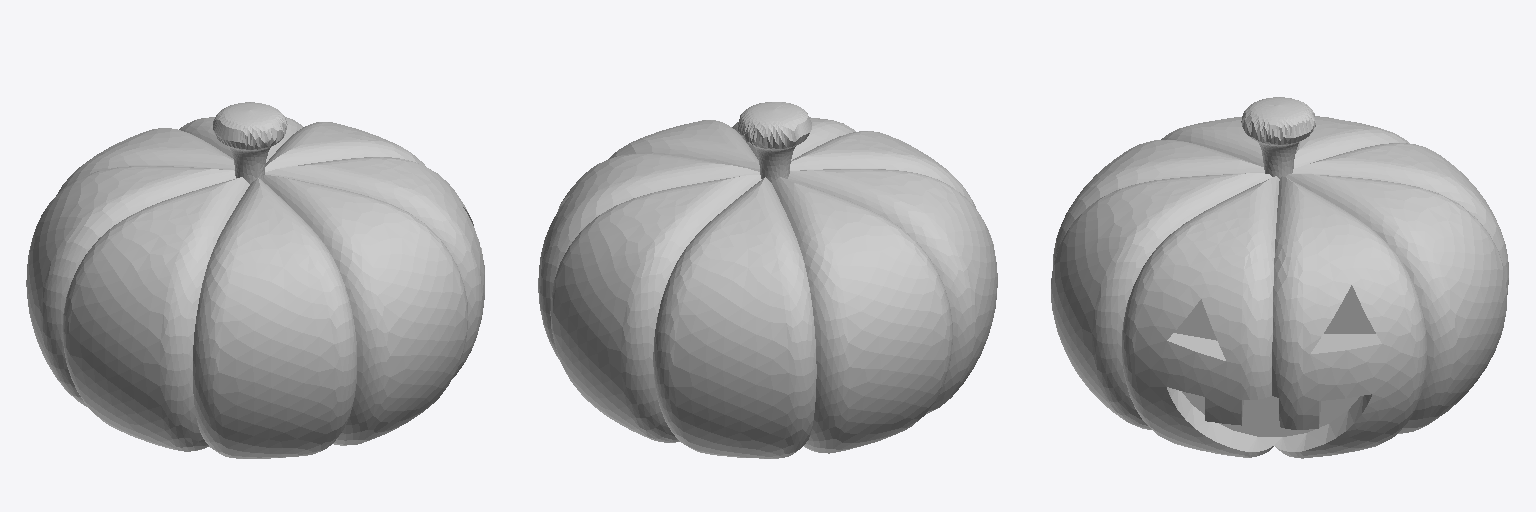
The model's file is pumpkin.obj.
3 renders of one model, left to right at view 1: azimuth 30°, elevation 25°; view 2: azimuth 150°, elevation 25°; view 3: azimuth 270°, elevation 25°, orthographic.
Parts seen in each view (by area): view 1: Pumpkin; view 2: Pumpkin; view 3: Pumpkin.
Part boxes in pixels (bbox=[...]): Pumpkin: bbox=[26, 102, 484, 458]; Pumpkin: bbox=[538, 102, 997, 458]; Pumpkin: bbox=[1051, 97, 1508, 458].
Bounding box in the file's own units: 10.9 × 7.76 × 10.9.